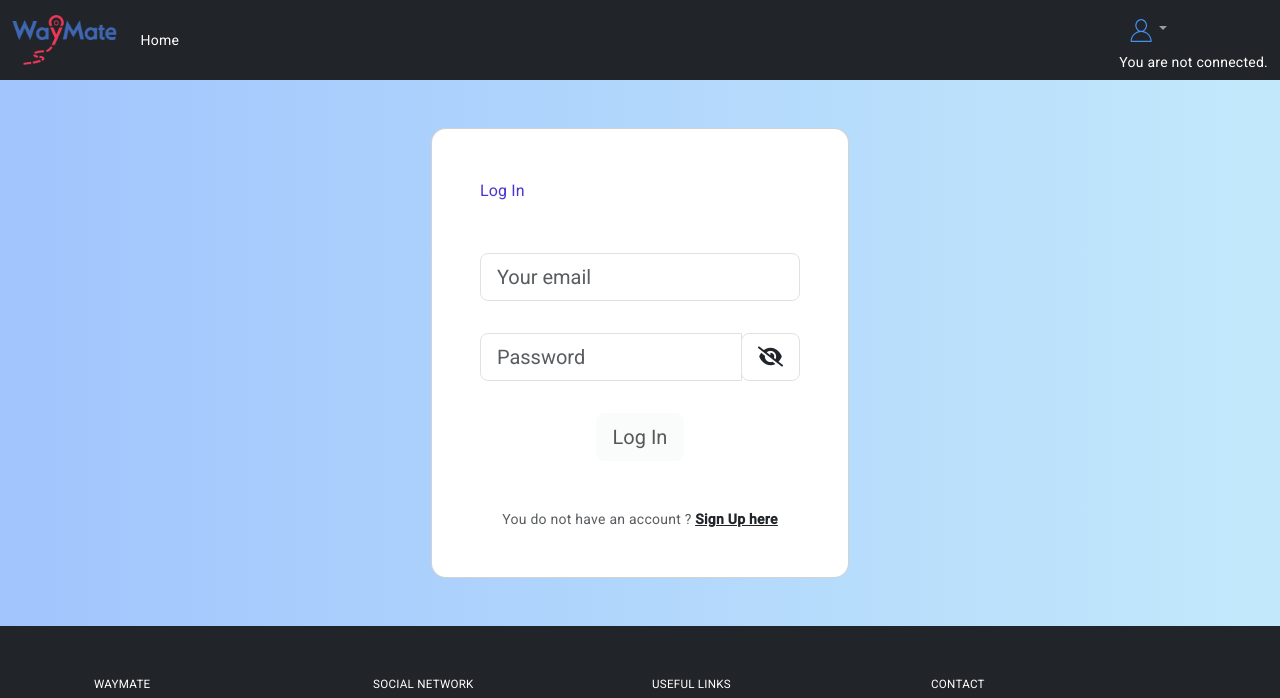
Test: Login Test › should fail validation with incorrect password
Type "captain.rex@republicarmy.com" into the field named "email" at (640, 277), box [480,253,800,301]
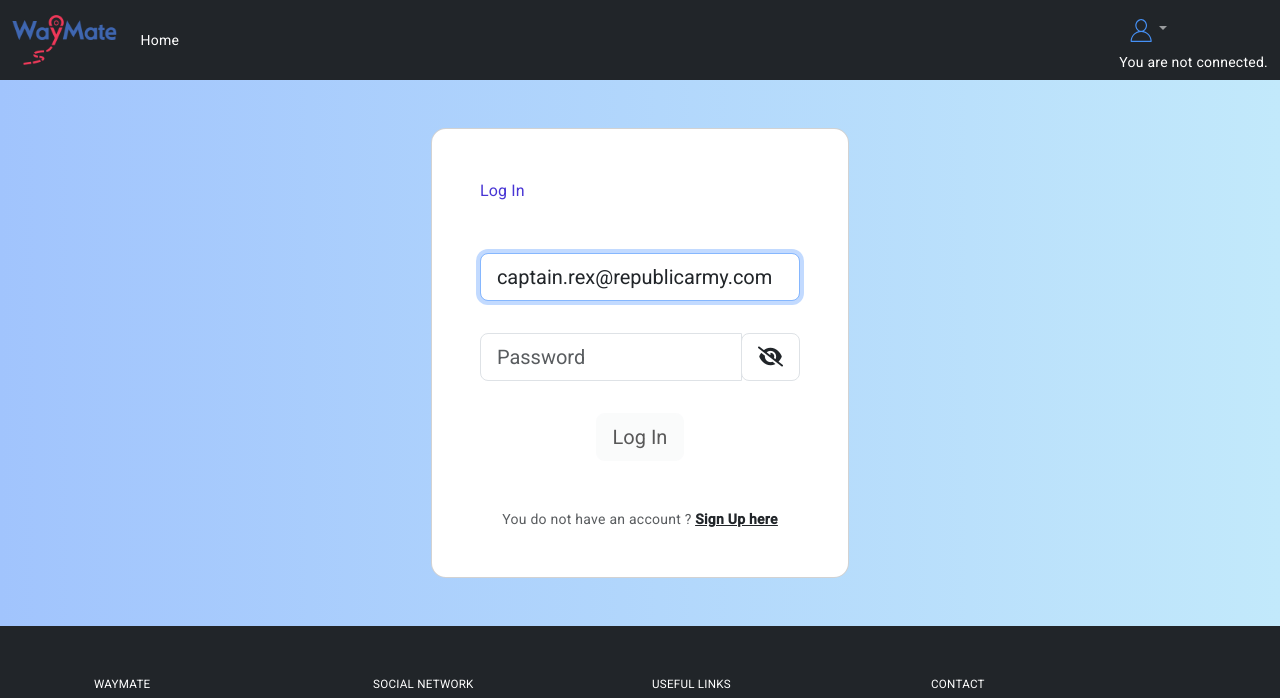
Type "DifferentPassword2!" into the password field named "password" at (611, 357), box [480,333,742,381]
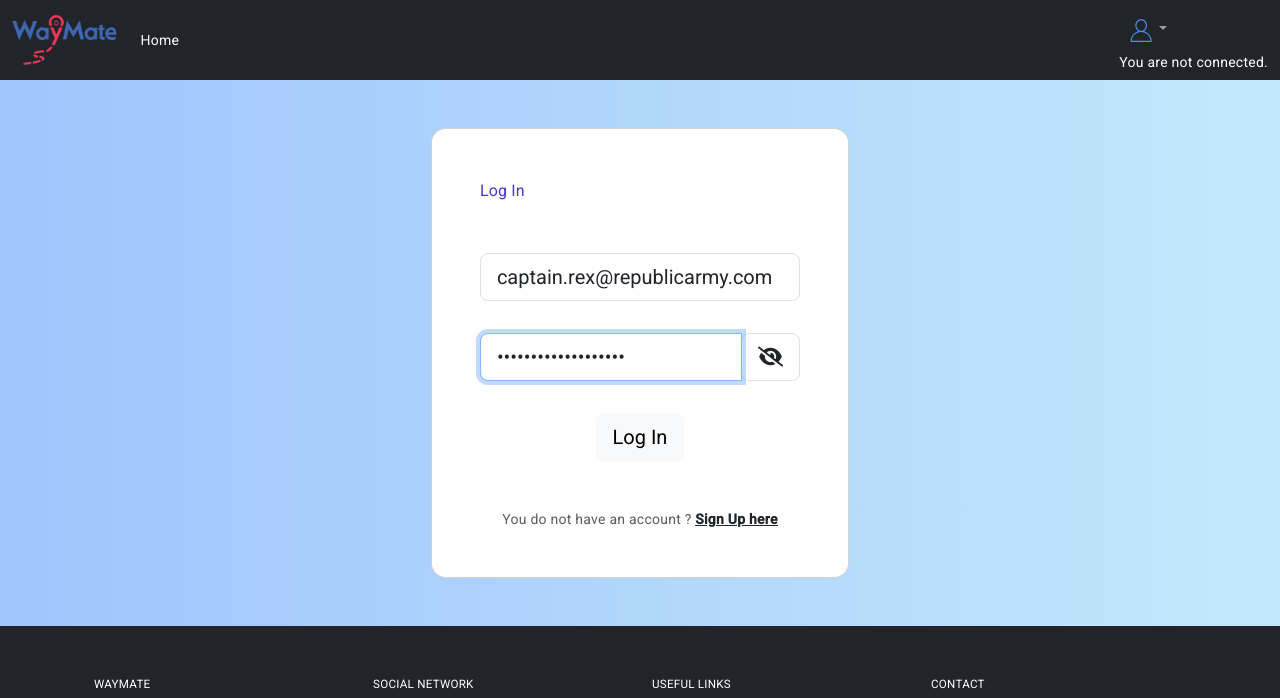
Click the submit button at (641, 437), box [596,413,685,461]
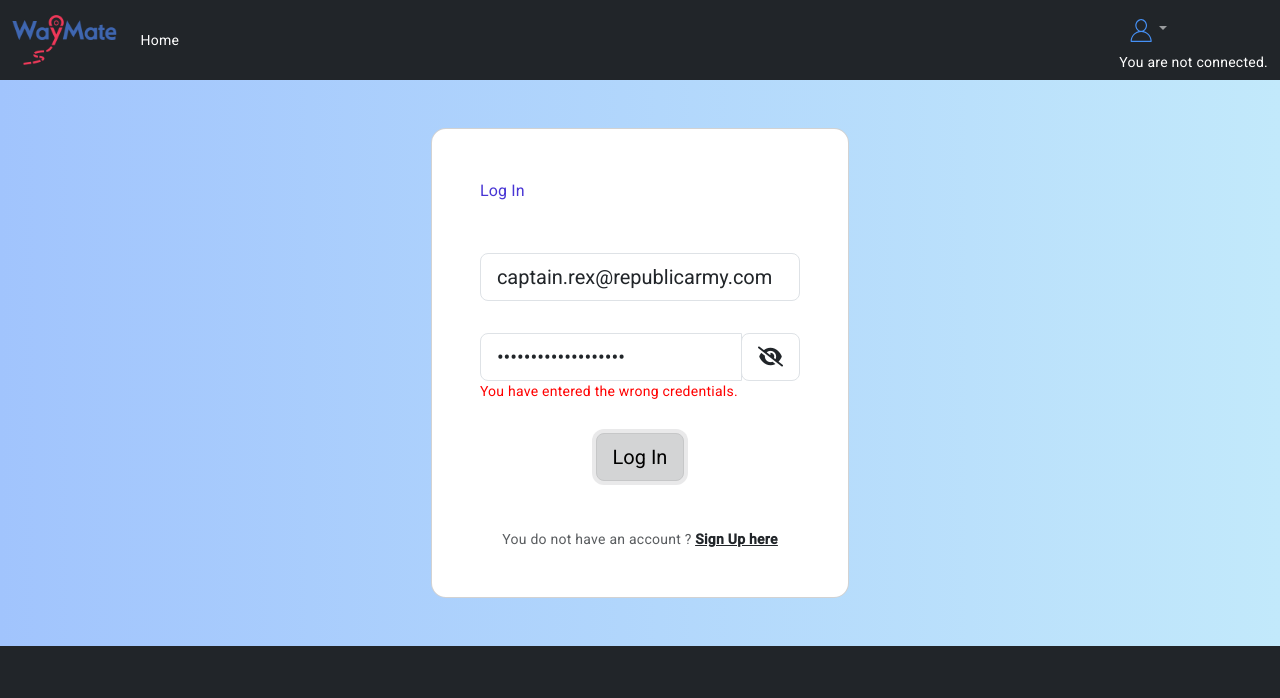
Result: the text "You have entered the wrong credentials." is shown at [480,383,738,399]
